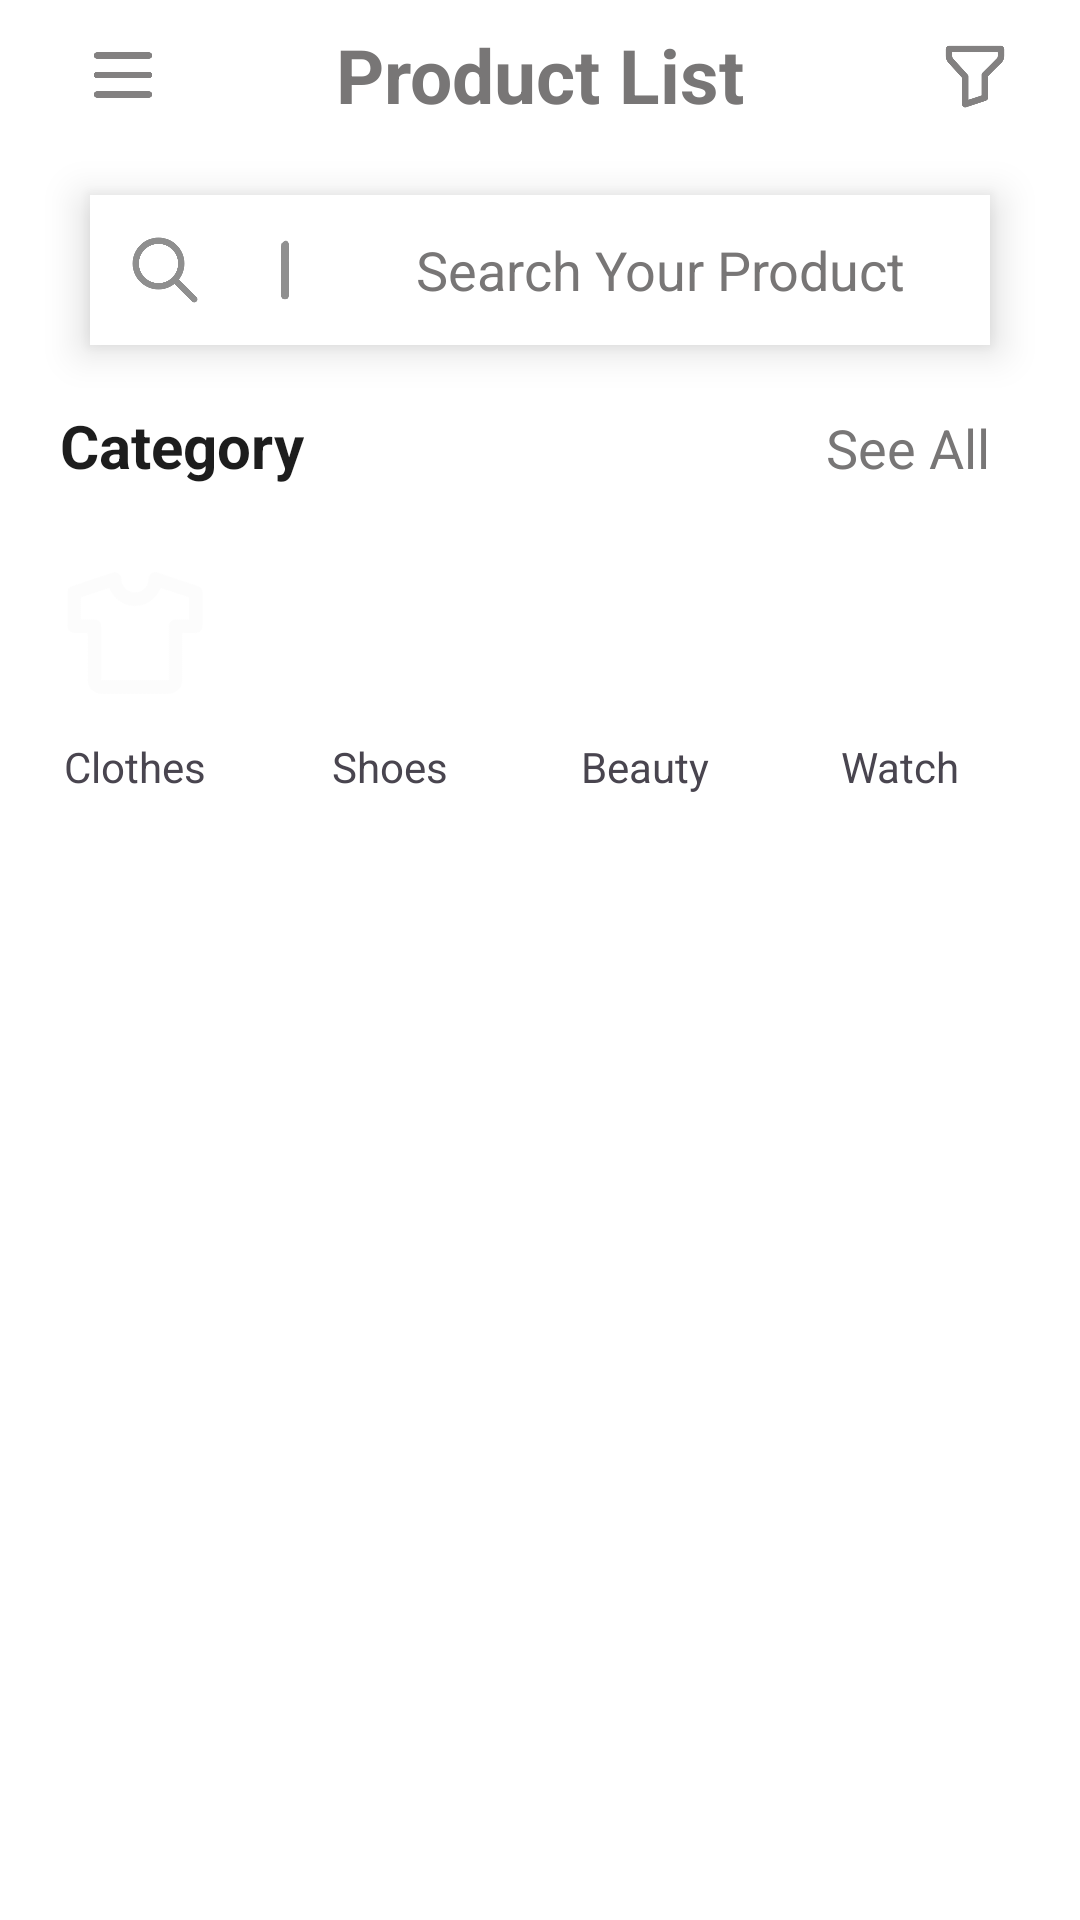

Icon click points for this 1080 × 1920 phone screenshot, format point (x, y):
filter: point (975, 77)
menu: point (123, 75)
